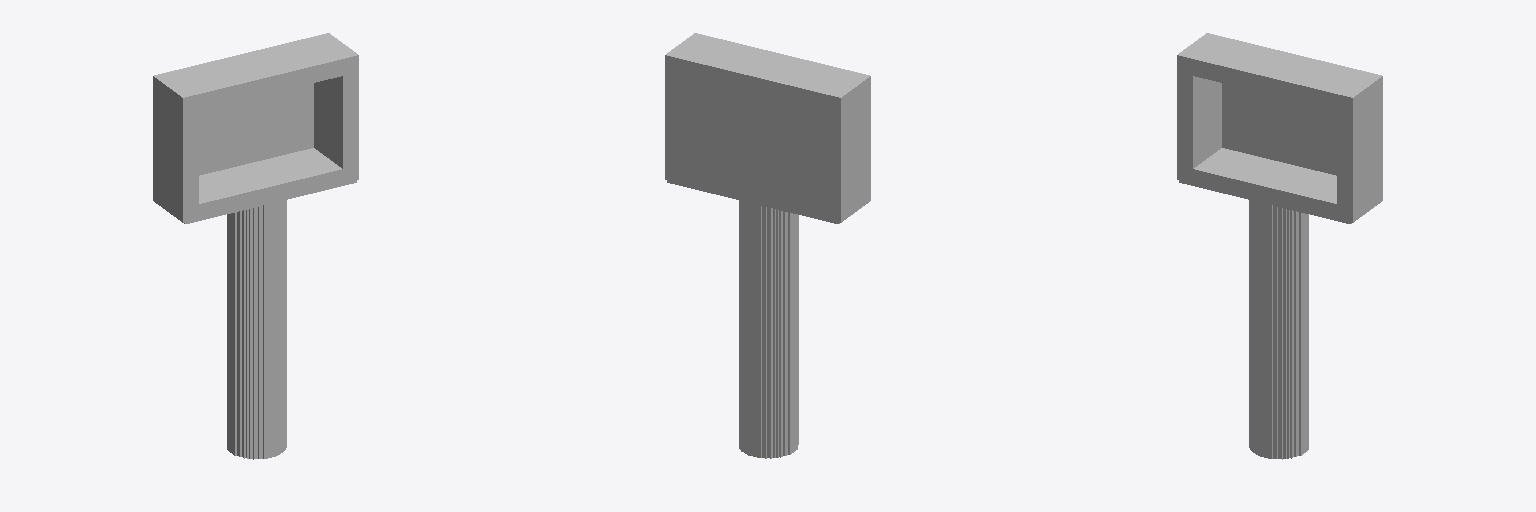
File: Board.obj
3 renders of one model, left to right at view 1: azimuth 30°, elevation 25°; view 2: azimuth 150°, elevation 25°; view 3: azimuth 330°, elevation 25°, orthographic.
Visible parts, largest first — view 1: object 1; view 2: object 1; view 3: object 1.
Boxes of the visible parts, <box> form: object 1: <box>153,33,358,459</box>; object 1: <box>665,33,870,458</box>; object 1: <box>1177,33,1382,459</box>.
Size of the model in its own units: 8.7 by 18 by 2.6.